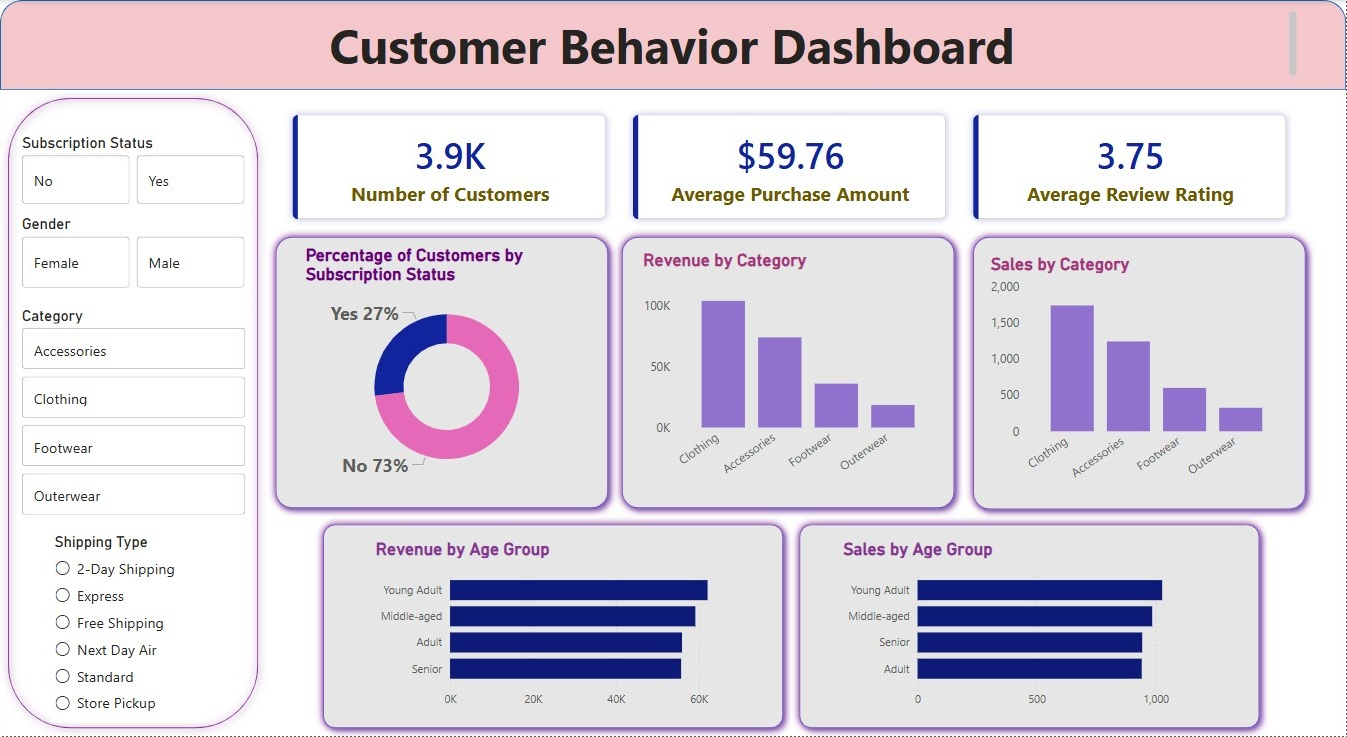

The page's visual inventory and layout, read from the dashboard file:
{"tool":"powerbi","page":{"name":"Page 1","canvas":[1500,820],"ordinal":0},"visuals":[{"type":"cardVisual","fields":{"Data":["public customer.Number of Customers","public customer.Average Purchase Amount","public customer.Average Review Rating"]},"box":[298,100.3,1165.7,172.7],"z":0},{"type":"shape","box":[0,0,1499.9,100.3],"z":1000},{"type":"textbox","box":[55.7,8.4,1394.1,80.8],"z":2000},{"type":"shape","box":[298,254.9,388.6,320.3],"z":3000},{"type":"donutChart","title":"Percentage of Customers by Subscription Status","fields":{"Category":["public customer.subscription_status"],"Y":["CountNonNull(public customer.customer_id)"]},"box":[335.6,273,324.5,273],"z":4000},{"type":"shape","box":[683.8,254.9,388.6,320.3],"z":5000},{"type":"shape","box":[1075.1,254.9,388.6,321.7],"z":6000},{"type":"clusteredColumnChart","title":"Revenue by Category","fields":{"Y":["Sum(public customer.purchase_amount)"],"Category":["public customer.category"]},"box":[711.7,278.5,339.8,273],"z":7000},{"type":"clusteredColumnChart","title":"Sales by Category","fields":{"Y":["CountNonNull(public customer.customer_id)"],"Category":["public customer.category"]},"box":[1098.8,282.7,339.8,273],"z":8000},{"type":"shape","box":[0,100.3,296.6,720],"z":9000},{"type":"advancedSlicerVisual","fields":{"Values":["public customer.subscription_status"]},"box":[19.5,149,259,83.6],"z":10000},{"type":"advancedSlicerVisual","fields":{"Values":["public customer.gender"]},"box":[19.5,239.5,259,86.3],"z":11000},{"type":"advancedSlicerVisual","fields":{"Values":["public customer.category"]},"box":[19.5,341.2,259,240.9],"z":12000},{"type":"listSlicer","fields":{"Values":["public customer.shipping_type"]},"box":[55.7,593.3,174.1,211.7],"z":13000},{"type":"shape","box":[351,575.2,530.6,245.1],"z":15004},{"type":"shape","box":[881.6,575.2,530.6,245.1],"z":15005},{"type":"clusteredBarChart","title":"Revenue by Age Group","fields":{"Y":["Sum(public customer.purchase_amount)"],"Category":["public customer.age_group"]},"box":[413.6,600.2,426.2,197.8],"z":15006},{"type":"clusteredBarChart","title":"Sales by Age Group","fields":{"Y":["CountNonNull(public customer.customer_id)"],"Category":["public customer.age_group"]},"box":[934.5,600.2,426.2,197.8],"z":15007}]}

Visuals, with their boxes in screenshot pixels (x1, y1, x2, y2), scaled from the page's 1500x820 canvas onto the 1347x737 screenshot:
cardVisual - public customer.Number of Customers x public customer.Average Purchase Amount: x1=268 y1=90 x2=1314 y2=245
shape: x1=0 y1=0 x2=1346 y2=90
textbox: x1=50 y1=8 x2=1302 y2=80
shape: x1=268 y1=229 x2=617 y2=517
"Percentage of Customers by Subscription Status" donutChart: x1=301 y1=245 x2=593 y2=491
shape: x1=614 y1=229 x2=963 y2=517
shape: x1=965 y1=229 x2=1314 y2=518
"Revenue by Category" clusteredColumnChart: x1=639 y1=250 x2=944 y2=496
"Sales by Category" clusteredColumnChart: x1=987 y1=254 x2=1292 y2=499
shape: x1=0 y1=90 x2=266 y2=736
advancedSlicerVisual - public customer.subscription_status: x1=18 y1=134 x2=250 y2=209
advancedSlicerVisual - public customer.gender: x1=18 y1=215 x2=250 y2=293
advancedSlicerVisual - public customer.category: x1=18 y1=307 x2=250 y2=523
listSlicer - public customer.shipping_type: x1=50 y1=533 x2=206 y2=724
shape: x1=315 y1=517 x2=792 y2=736
shape: x1=792 y1=517 x2=1268 y2=736
"Revenue by Age Group" clusteredBarChart: x1=371 y1=539 x2=754 y2=717
"Sales by Age Group" clusteredBarChart: x1=839 y1=539 x2=1222 y2=717
